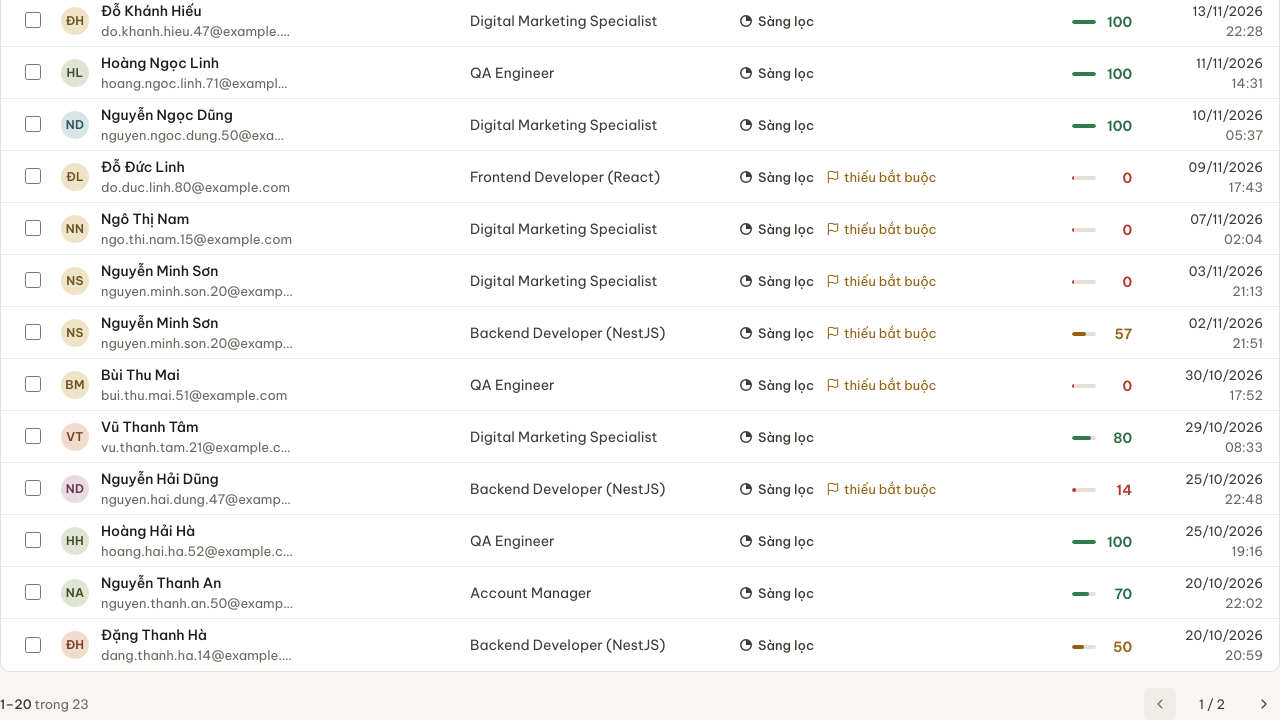
Test: bulk status change › keeps skipped applications selected and says why
(page scrolled)
Click the checkbox named "Chọn Hoàng Hải Hà, QA Engineer". click: (33, 540)
box: [25,532,41,548]
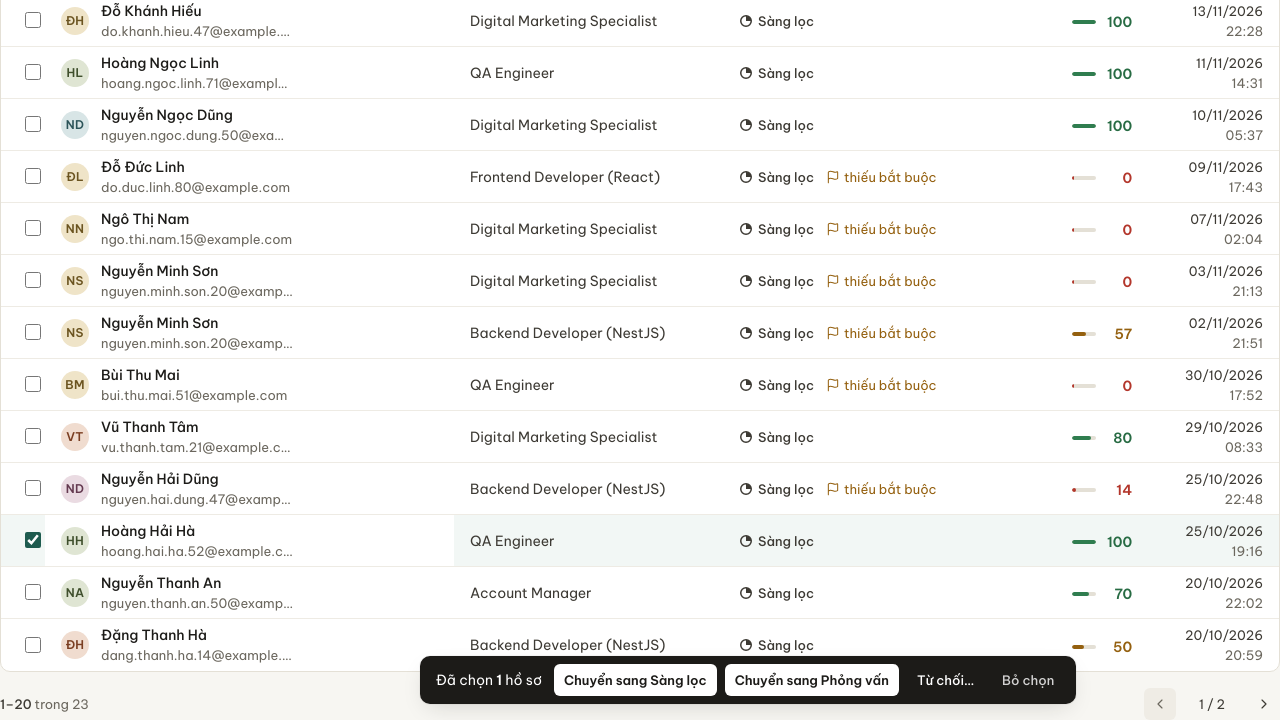
Click the checkbox named "Chọn Nguyễn Hải Dũng, Backend Developer (NestJS)". click: (33, 488)
box: [25,480,41,496]
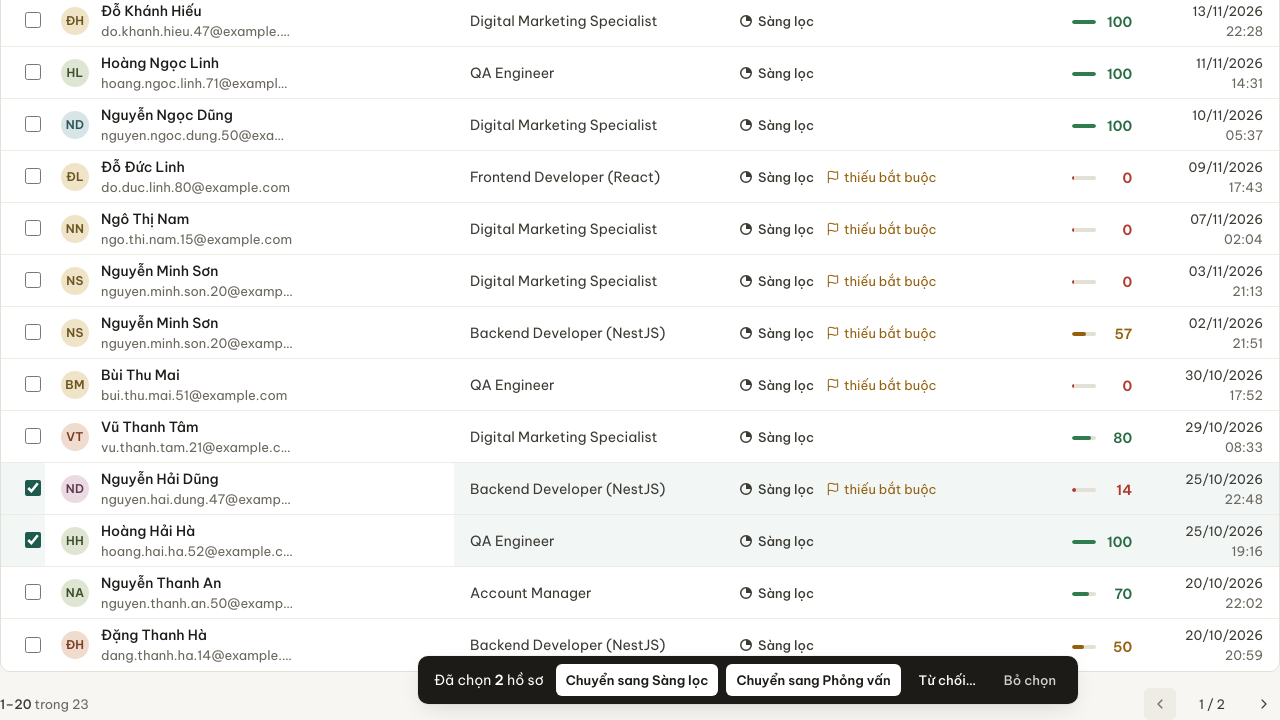
Click the button "Chuyển sang Phỏng vấn". click: (814, 680)
box: [726,664,901,696]
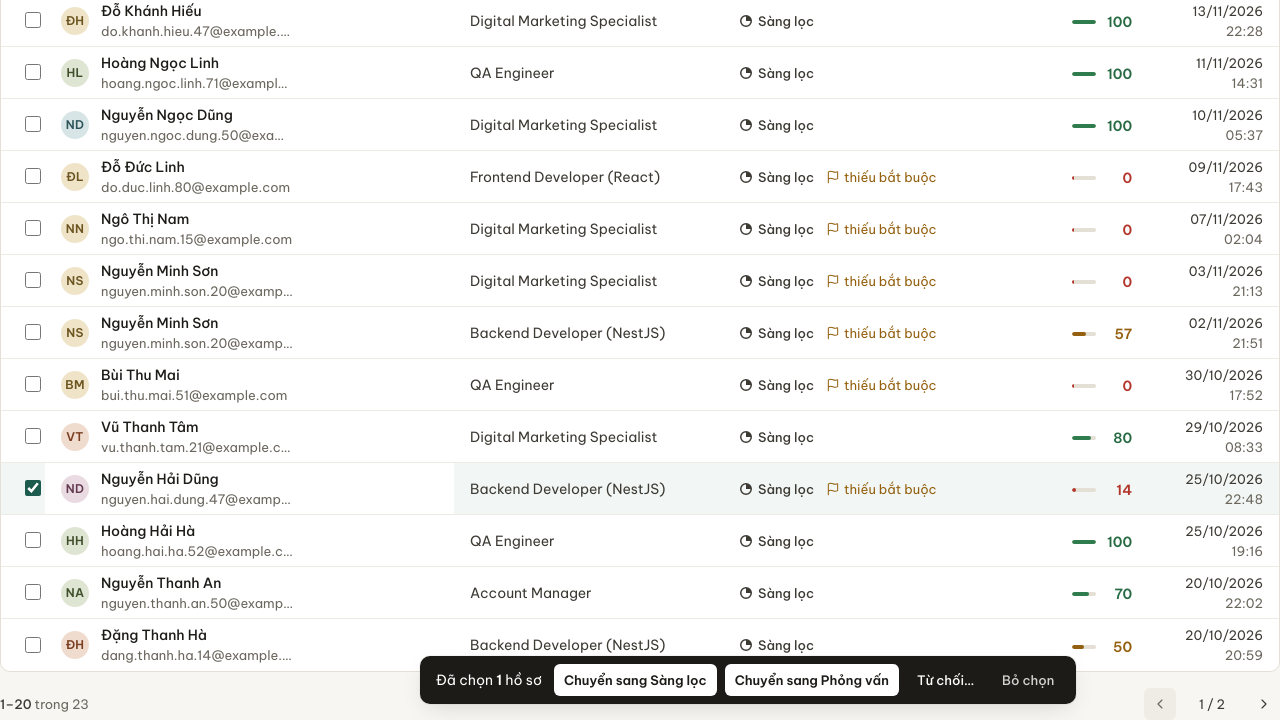
Result: the text "1" is shown at [496,671,502,689]
